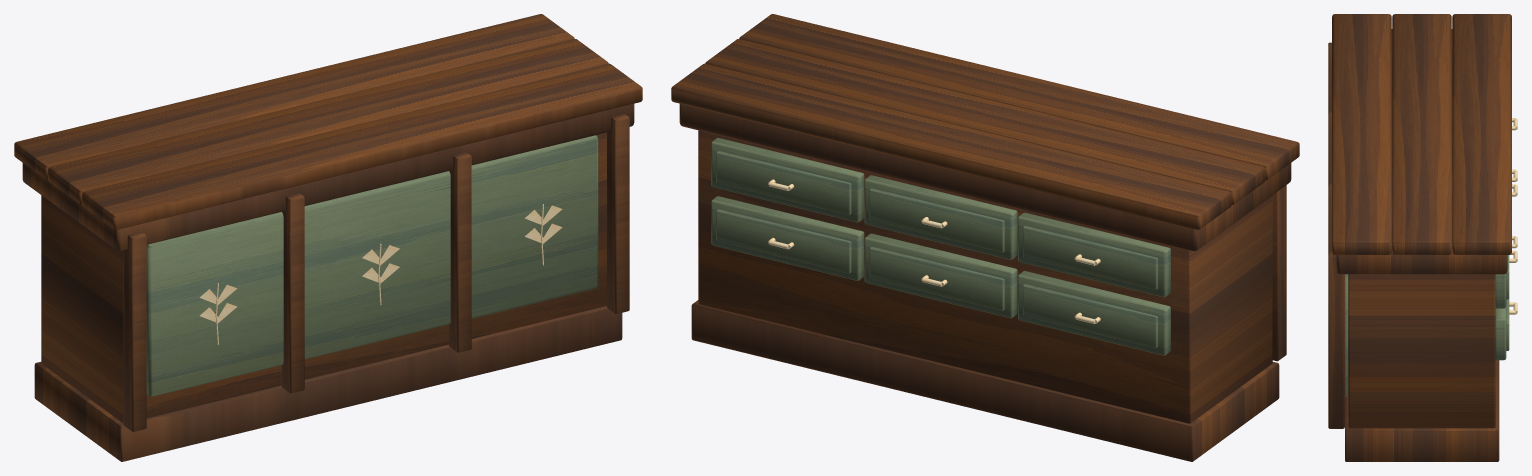
File: CM_AF01_SalesCounter.fbx
The picture shows the model from 3 angles, left to right: view 1: azimuth 30°, elevation 25°; view 2: azimuth 150°, elevation 25°; view 3: azimuth 270°, elevation 25°; orthographic projection. The views are drawn at different scales.
Visible parts, largest first — view 1: CM_AF01_SalesCounter; view 2: CM_AF01_SalesCounter; view 3: CM_AF01_SalesCounter.
Part boxes in pixels (x1=…): CM_AF01_SalesCounter: x1=14, y1=14, x2=642, y2=461; CM_AF01_SalesCounter: x1=671, y1=14, x2=1299, y2=461; CM_AF01_SalesCounter: x1=1328, y1=14, x2=1517, y2=461.
Bounding box in the file's own units: 2.28 × 1.05 × 0.798.
